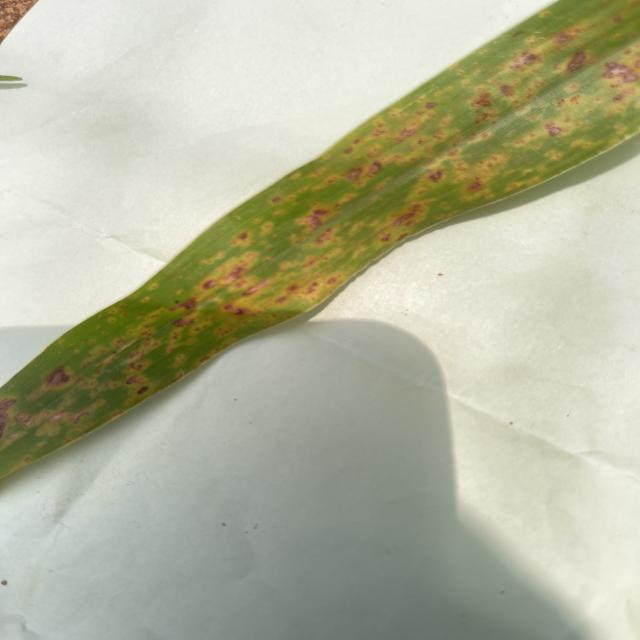millet_rust: (4, 1, 640, 487)
